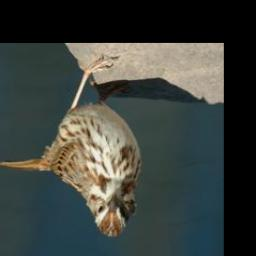Sparrow: (0, 58, 144, 238)
